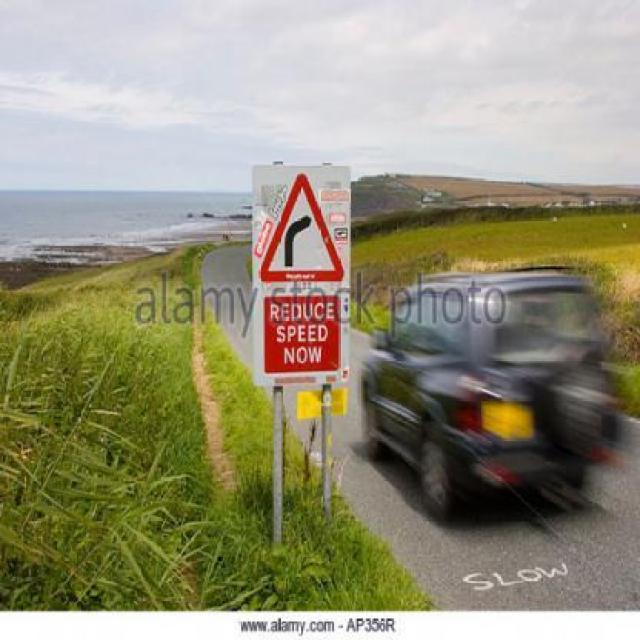traffic_sign: (258, 171, 344, 283)
